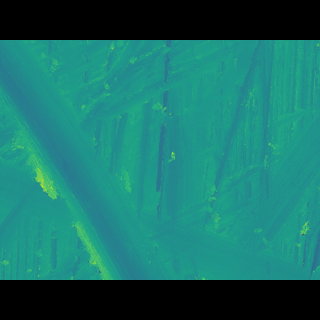Loch: (0, 69, 175, 250), (221, 114, 319, 230)
